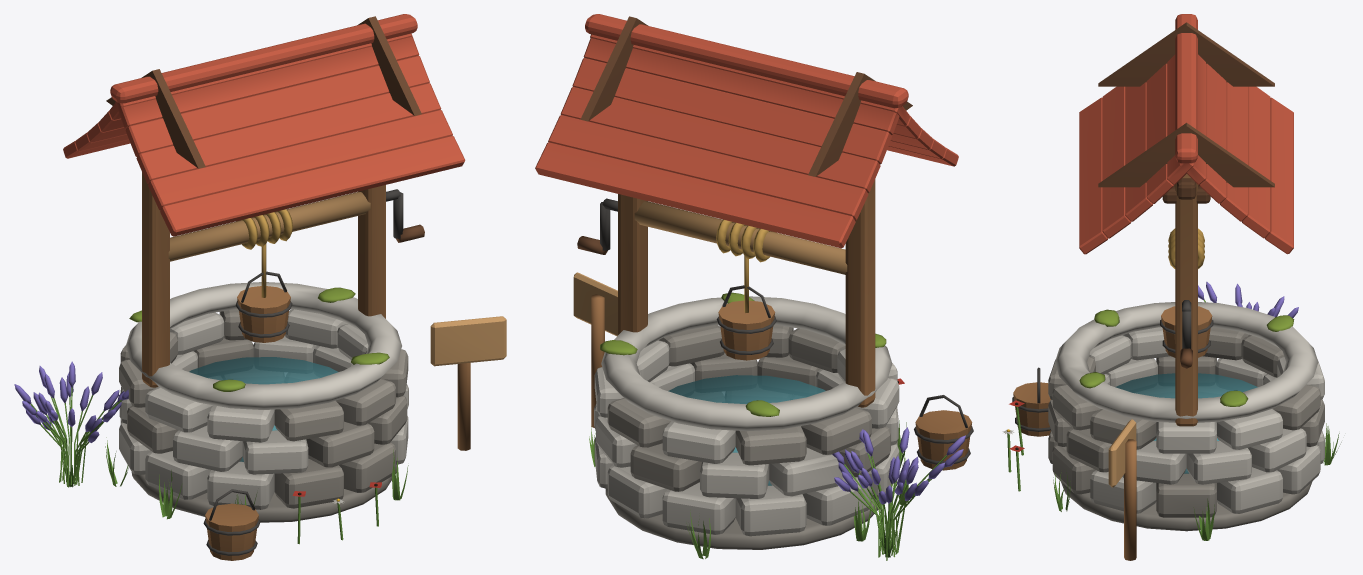
Rendered from puits.glb.
3 renders of one model, left to right at view 1: azimuth 30°, elevation 25°; view 2: azimuth 150°, elevation 25°; view 3: azimuth 270°, elevation 25°, orthographic. The views are drawn at different scales.
Parts seen in each view (by area): view 1: puits:tuile, puits:pierre, puits:pierre-sombre, puits:bois, puits:treuil:bois-clair, puits:bois-sombre, puits:bois-clair, puits:brin, puits:eau, puits:lavande, puits:fer, puits:mousse (+1 smaller); view 2: puits:tuile, puits:pierre, puits:pierre-sombre, puits:bois, puits:treuil:bois-clair, puits:bois-sombre, puits:eau, puits:lavande, puits:brin, puits:bois-clair, puits:fer, puits:treuil:paille-sombre (+2 smaller); view 3: puits:pierre, puits:tuile, puits:pierre-sombre, puits:bois, puits:bois-sombre, puits:eau, puits:brin, puits:mousse, puits:bois-clair, puits:fer, puits:lavande, puits:treuil:paille-sombre (+1 smaller).
Boxes of the visible parts, <box> form: puits:tuile: <box>63,14,465,236</box>; puits:pierre: <box>119,282,408,509</box>; puits:pierre-sombre: <box>119,309,408,522</box>; puits:bois: <box>142,172,470,560</box>; puits:treuil:bois-clair: <box>168,191,370,261</box>; puits:bois-sombre: <box>106,16,421,168</box>; puits:bois-clair: <box>430,316,506,366</box>; puits:brin: <box>30,387,408,544</box>; puits:eau: <box>189,357,338,461</box>; puits:lavande: <box>14,361,128,442</box>; puits:fer: <box>203,271,292,555</box>; puits:mousse: <box>129,287,389,391</box>; puits:tuile: <box>535,14,958,248</box>; puits:pierre: <box>594,296,899,536</box>; puits:pierre-sombre: <box>605,324,890,549</box>; puits:bois: <box>591,179,972,470</box>; puits:treuil:bois-clair: <box>634,201,847,274</box>; puits:bois-sombre: <box>580,16,912,176</box>; puits:eau: <box>668,375,825,485</box>; puits:lavande: <box>832,427,965,504</box>; puits:brin: <box>589,420,946,560</box>; puits:bois-clair: <box>573,272,617,336</box>; puits:fer: <box>716,285,973,464</box>; puits:treuil:paille-sombre: <box>716,219,774,262</box>; puits:pierre: <box>1055,302,1324,513</box>; puits:tuile: <box>1079,14,1293,254</box>; puits:pierre-sombre: <box>1048,327,1324,531</box>; puits:bois: <box>1013,174,1212,560</box>; puits:bois-sombre: <box>1098,22,1274,203</box>; puits:eau: <box>1115,373,1257,473</box>; puits:brin: <box>1007,299,1341,540</box>; puits:mousse: <box>1079,309,1294,406</box>; puits:bois-clair: <box>1108,419,1136,487</box>; puits:fer: <box>1012,320,1213,431</box>; puits:lavande: <box>1198,281,1298,317</box>; puits:treuil:paille-sombre: <box>1168,228,1204,268</box>.
Size of the model in its own units: 2.87 by 2.78 by 2.16.
